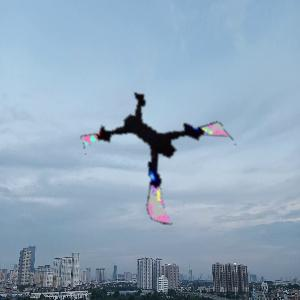drone: (97, 80, 231, 214)
